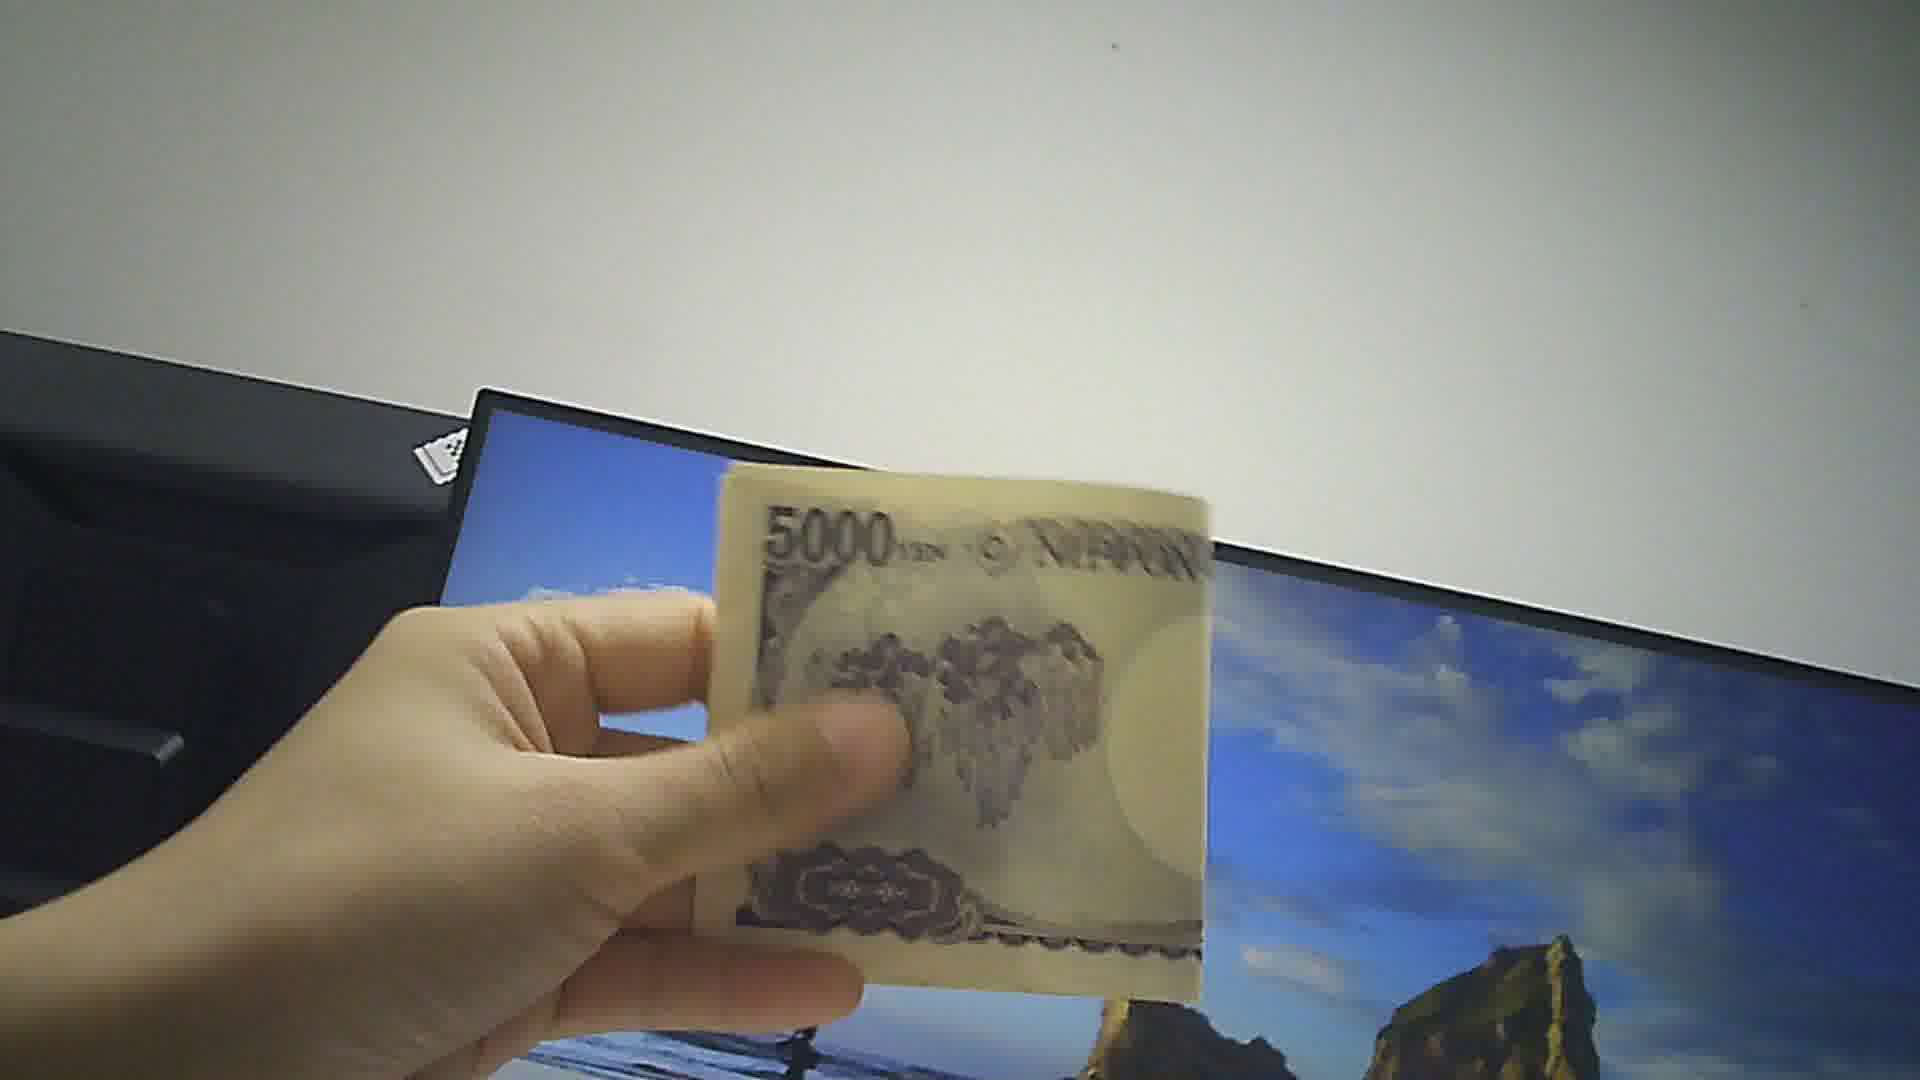5,000 Yen: (688, 433, 1229, 1014)
